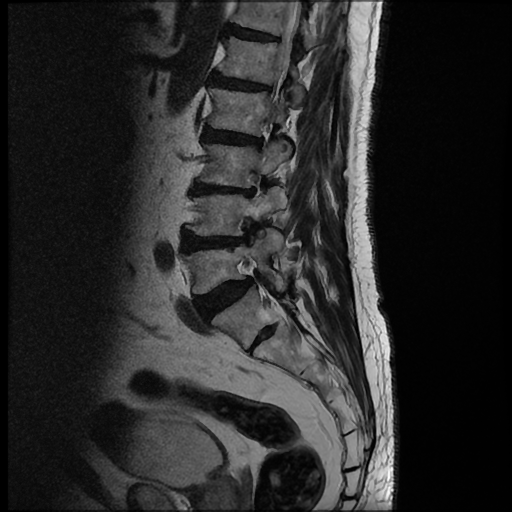LFS0: (245, 113, 287, 161)
